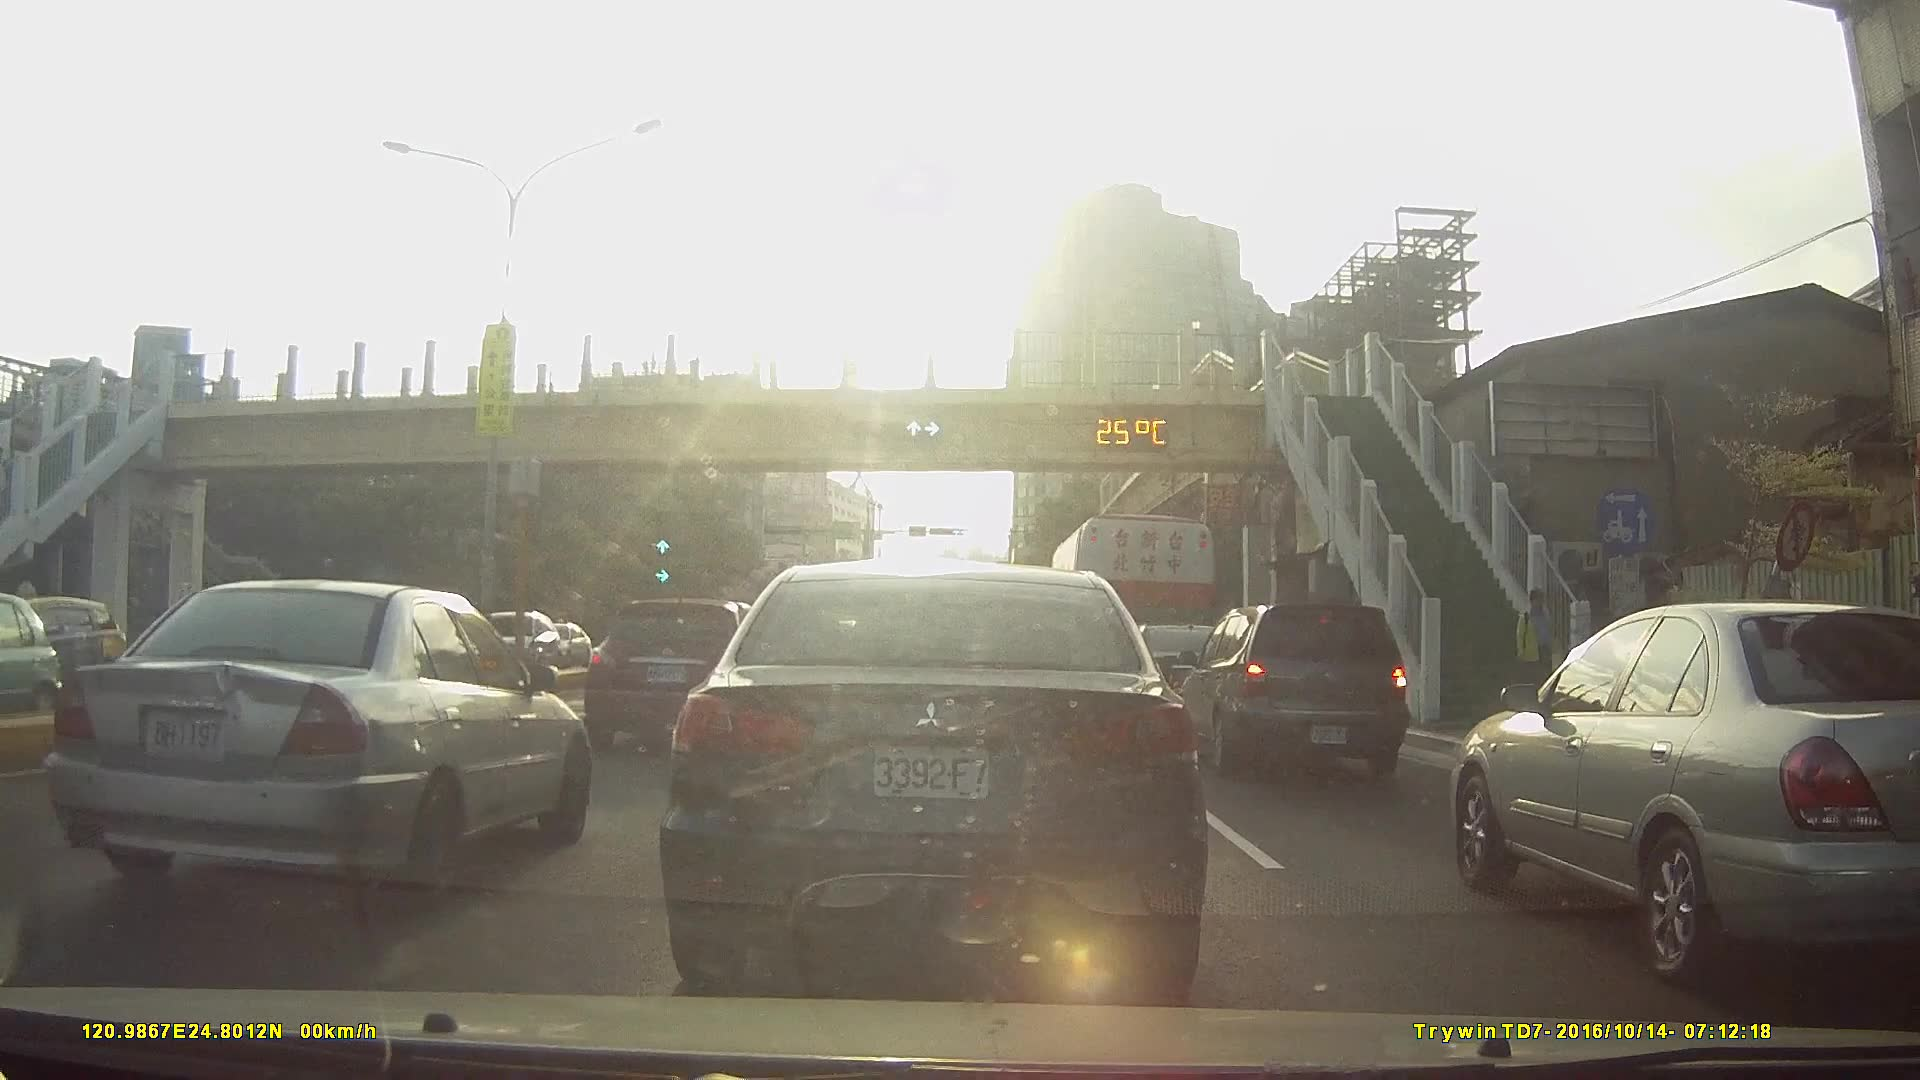pedestrian: (1519, 589, 1565, 705)
vehicle: (663, 560, 1204, 997), (1443, 597, 1920, 975), (69, 578, 600, 897), (1174, 603, 1421, 777), (584, 600, 778, 752), (1099, 615, 1249, 732), (1, 594, 130, 712), (453, 609, 577, 679), (1, 591, 59, 724), (526, 622, 597, 669)
